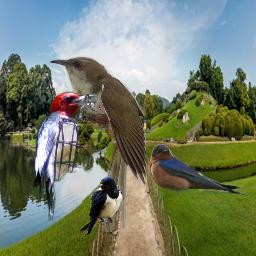Cuckoo: (49, 55, 146, 232)
Swallow: (148, 144, 251, 197), (79, 176, 123, 238)
Woodpecker: (33, 91, 100, 221)
